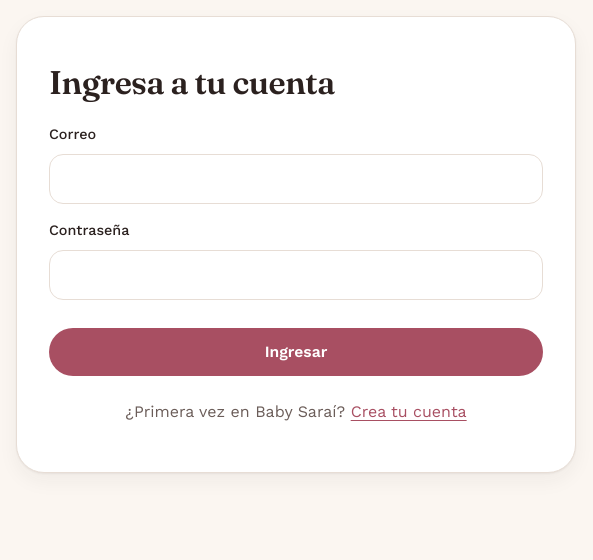
Ingresar + AuthProvider › muestra el mensaje de la API si las credenciales son incorrectas
In the field labelled "Correo": (296, 179) top-left (49, 154), bottom-right (543, 204), type "admin@babysarai.com"
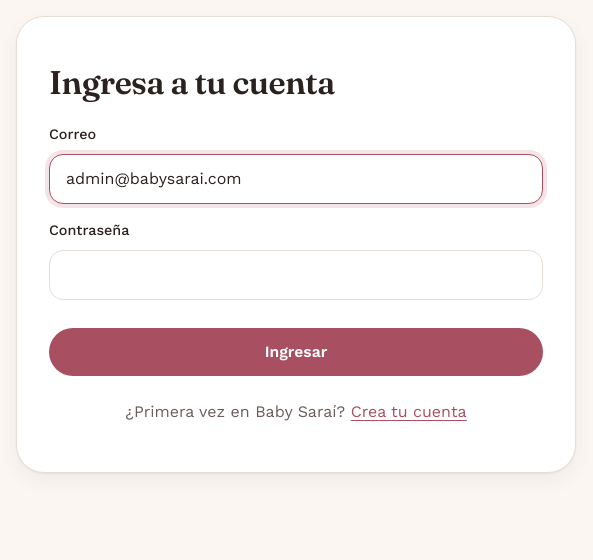
In the password field labelled "Contraseña": (296, 275) top-left (49, 250), bottom-right (543, 300), type "mala"
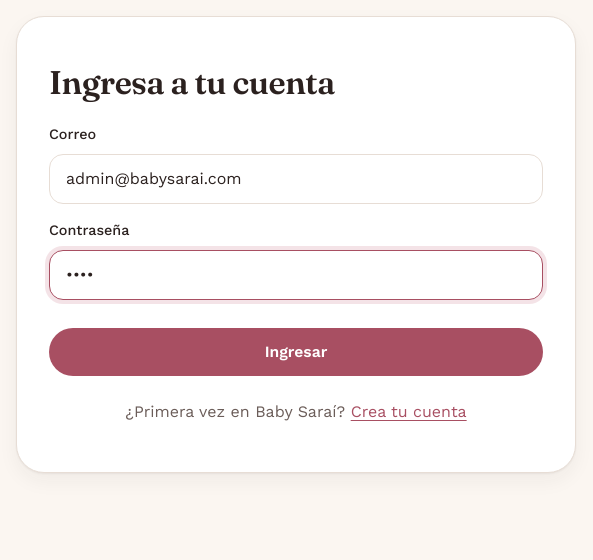
Click the button "Ingresar": (296, 352) top-left (49, 328), bottom-right (543, 376)
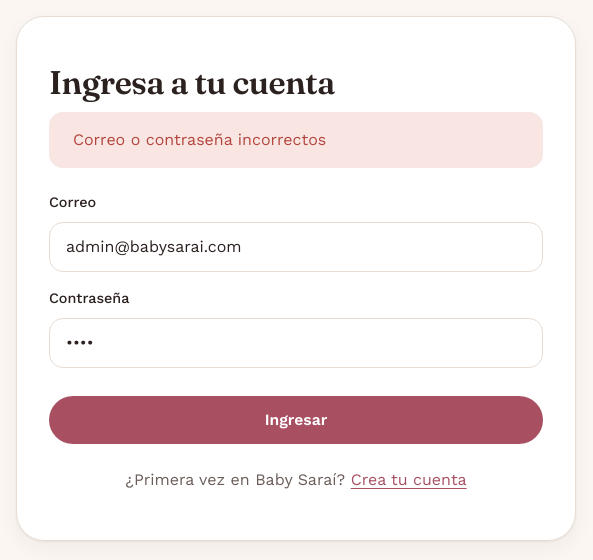
Check: the message reads "Correo o contraseña incorrectos", box top-left (73, 130), bottom-right (326, 149)
